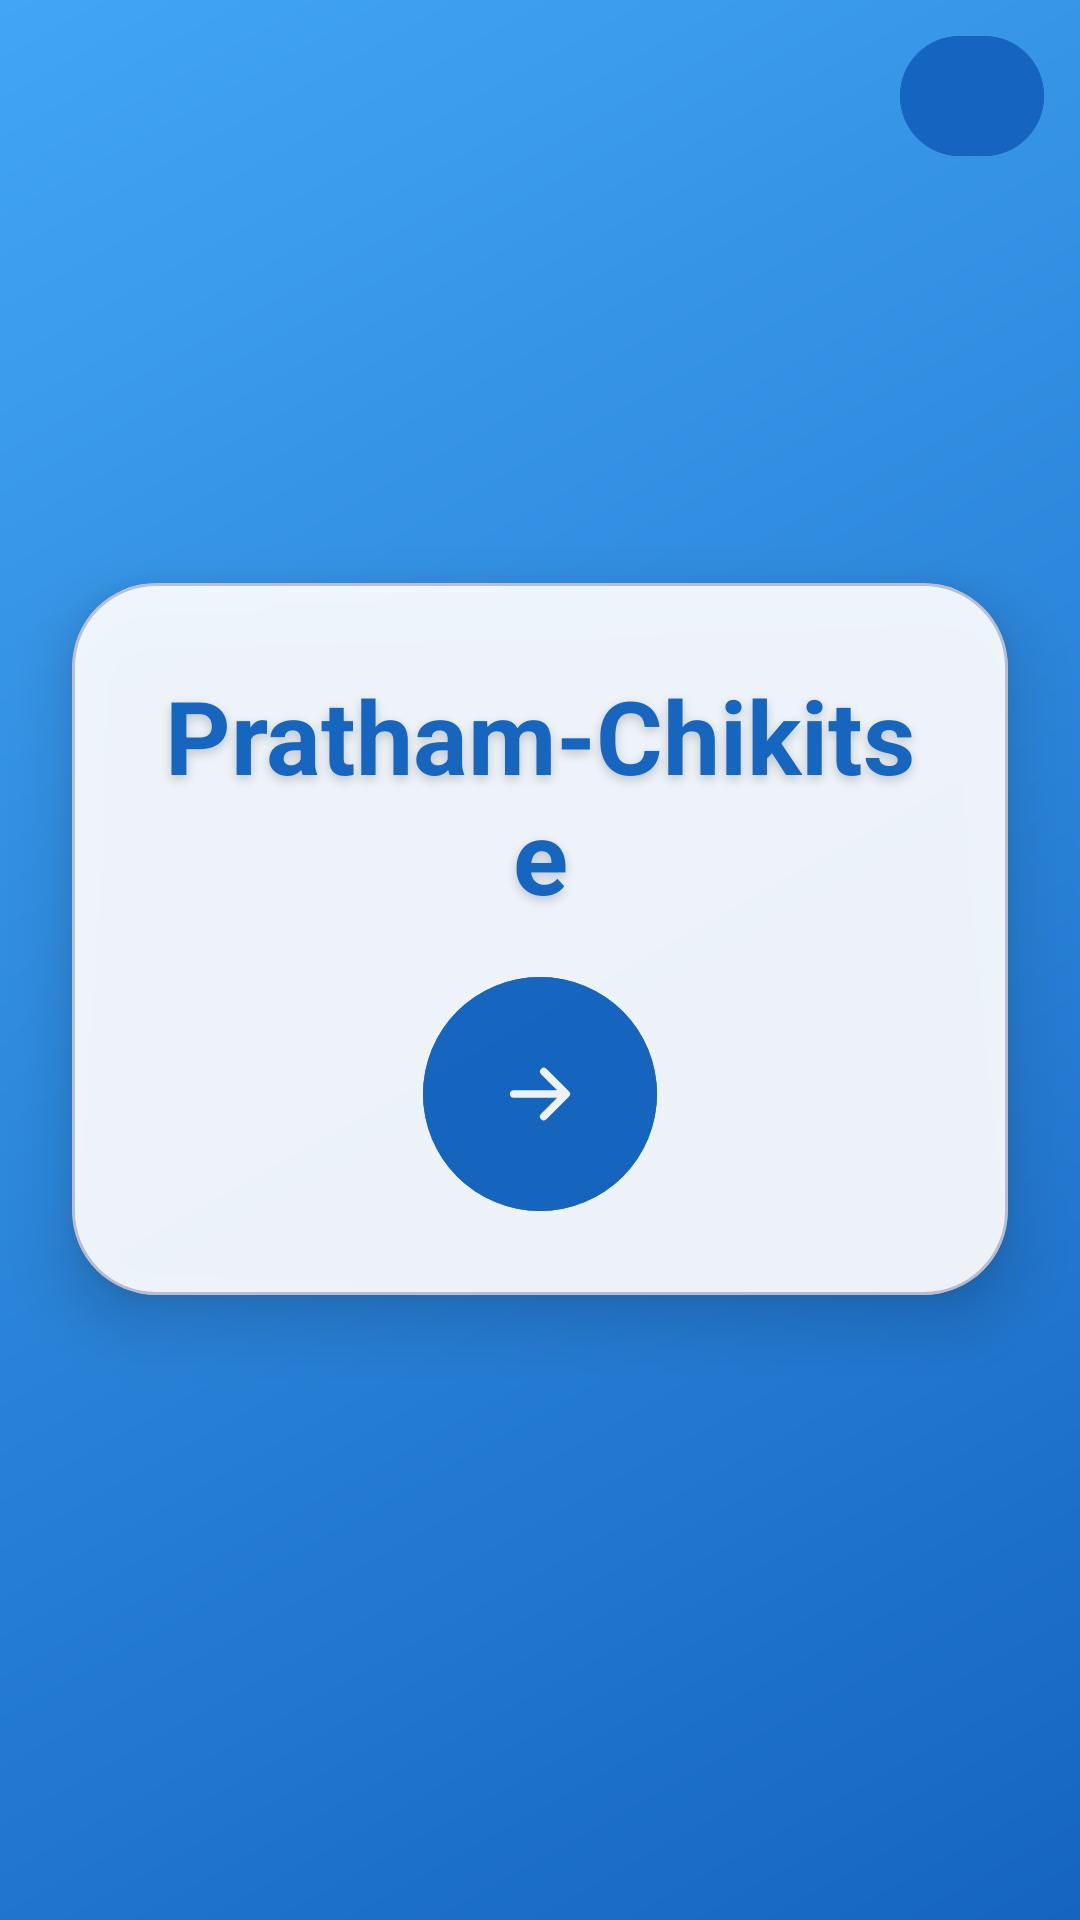

Where to tap for icons on this 1080x1920 app screen, as (x=x, y=y):
Enter app: (x=540, y=1094)
